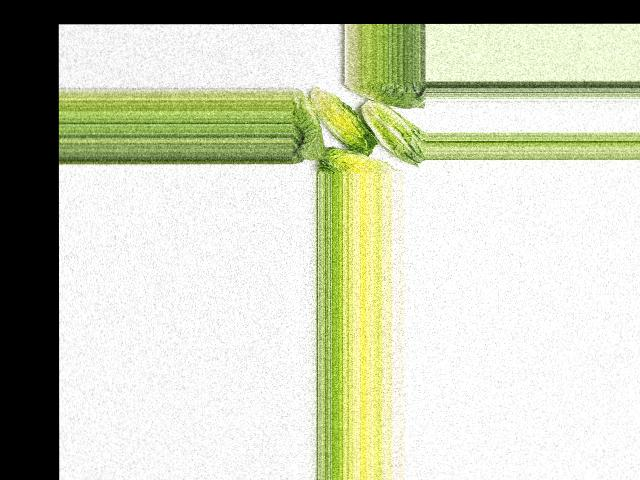lettuce: (290, 90, 327, 164)
